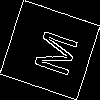M: (24, 25, 79, 79)
